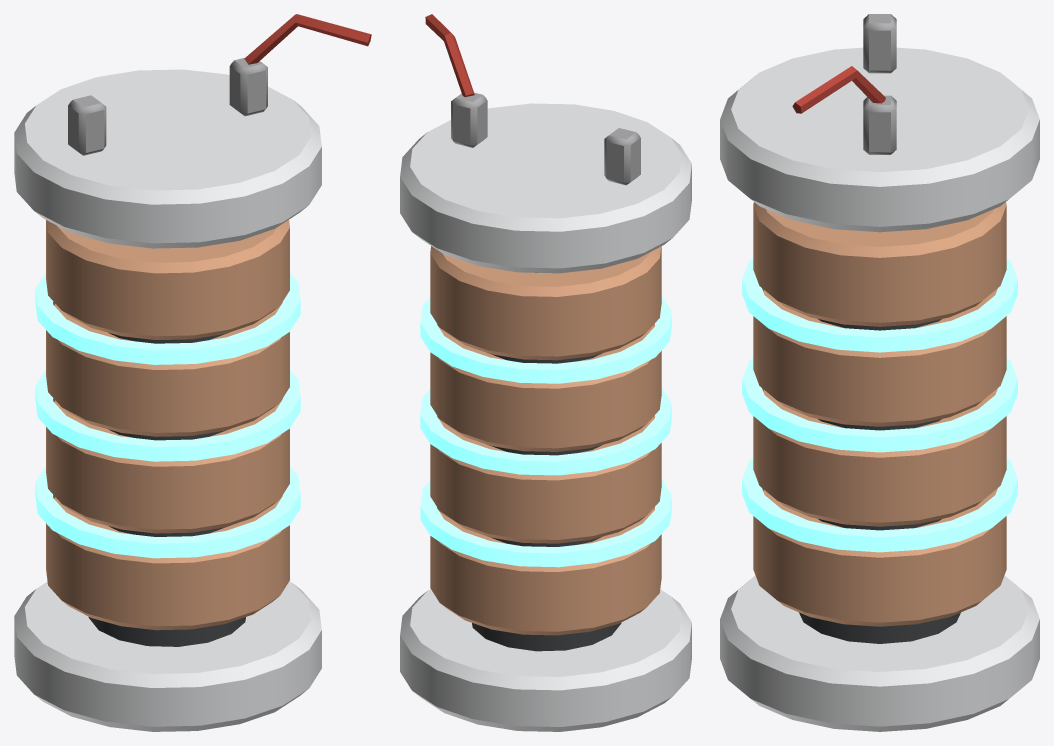
Rendered from pylon_relay_coil.glb.
3 views of the same model, side by side, from view 1: azimuth 30°, elevation 25°; view 2: azimuth 150°, elevation 25°; view 3: azimuth 270°, elevation 25° (orthographic). The views are drawn at different scales.
Visible parts, largest first — view 1: body; view 2: body; view 3: body.
Part boxes in pixels (x1,y1,x2,y2): body: (14, 14, 371, 731); body: (400, 14, 691, 731); body: (720, 14, 1039, 731).
Size of the model in its own units: 0.1296 by 0.2643 by 0.116.
